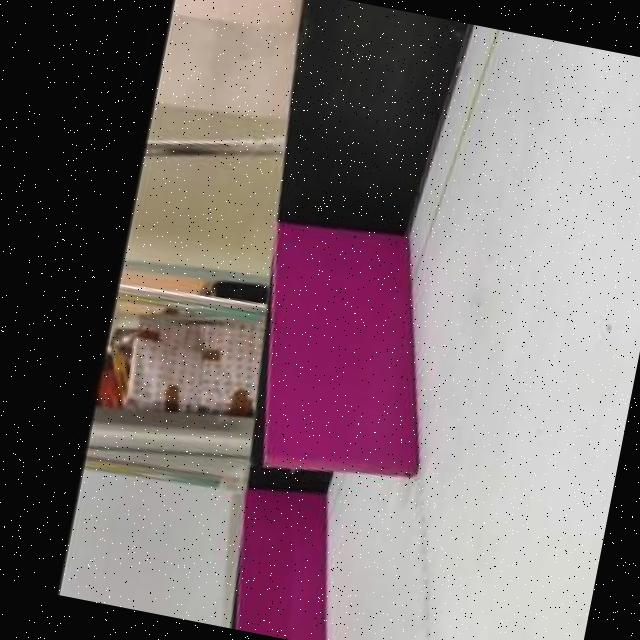xparking: (260, 232, 440, 478), (229, 494, 342, 640)
